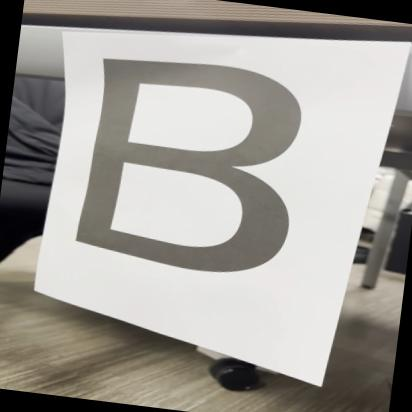seat: (55, 35, 317, 291)
